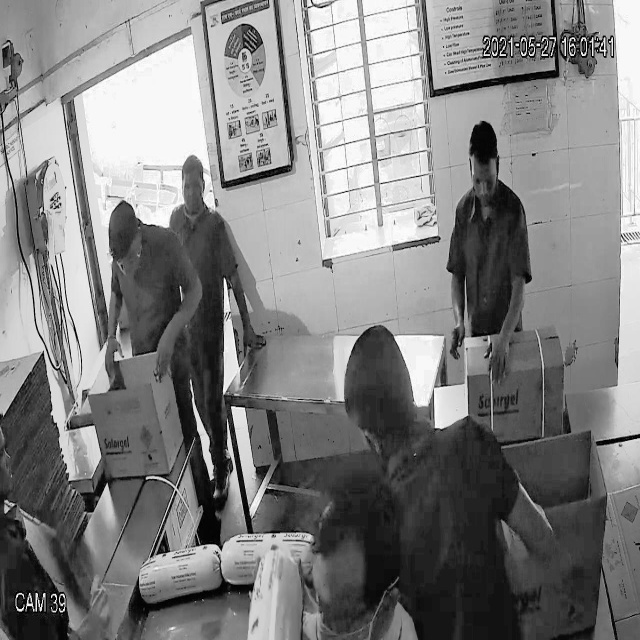Sin_gafas: (466, 164, 504, 195)
